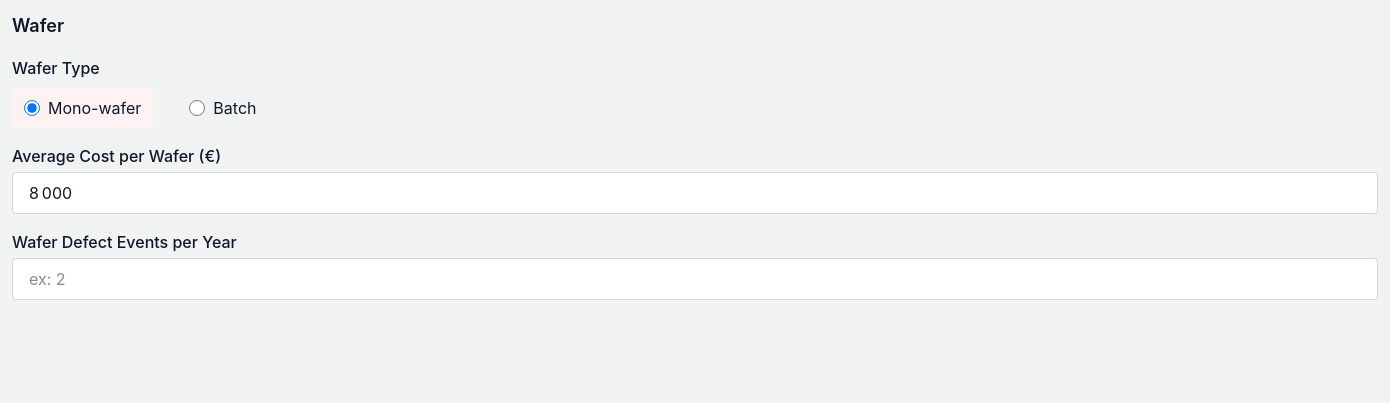
it: WaferInputs Integration Tests › completes mode switching flow: mono → batch → edit → mono → verify reset
The image size is (1390, 403).
Switch to batch
Click the radio button labelled "Batch".
click(197, 108)  # box [189,100,205,116]
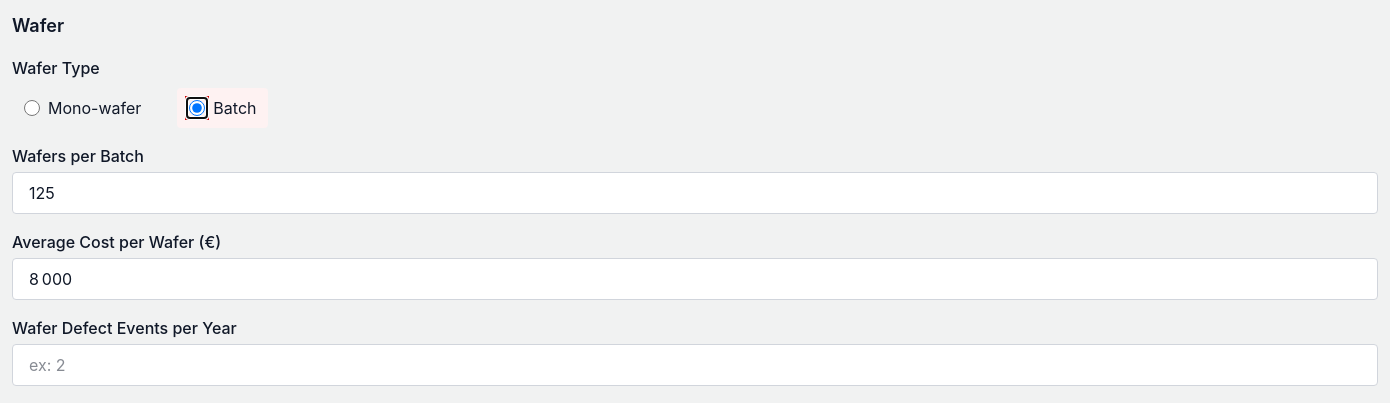
Edit batch quantity to 300
Replace the text in the number field labelled "Wafers per Batch" with "300" at x=695, y=193, box [12,172,1378,214]
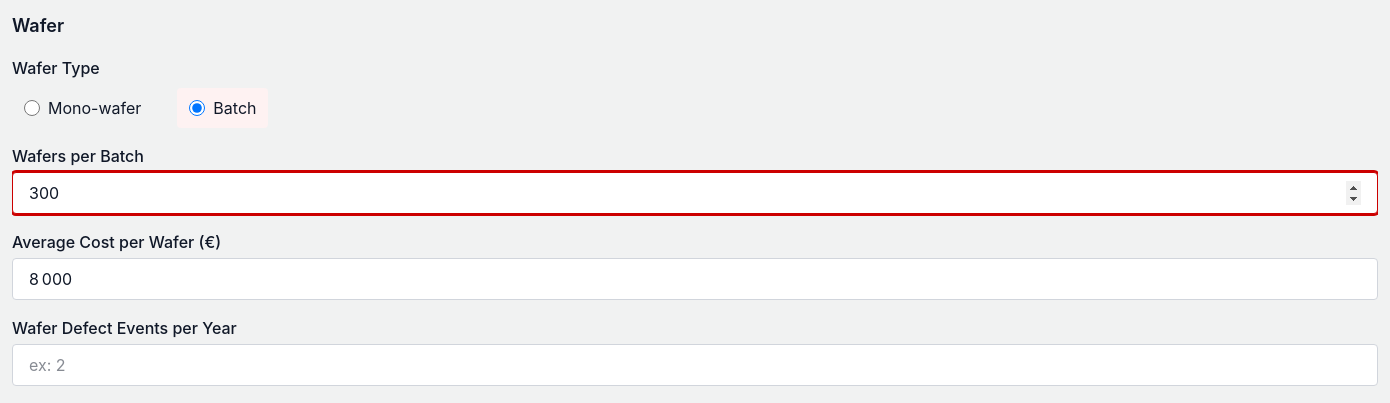
Switch back to mono — quantity should reset to 1
Click the radio button labelled "Mono-wafer".
click(32, 108)  # box [24,100,40,116]
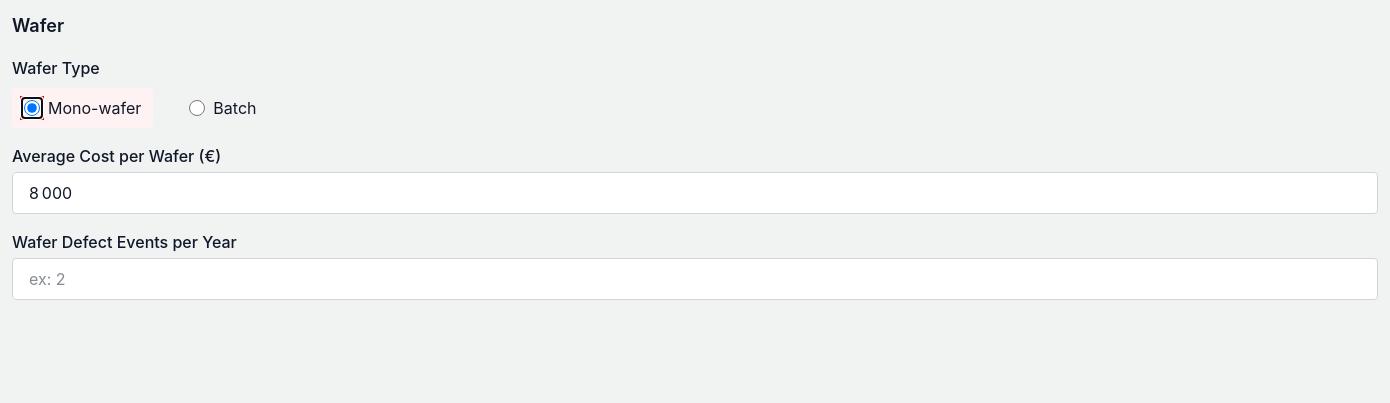
Expected: the label labelled "Wafers per Batch" is gone
